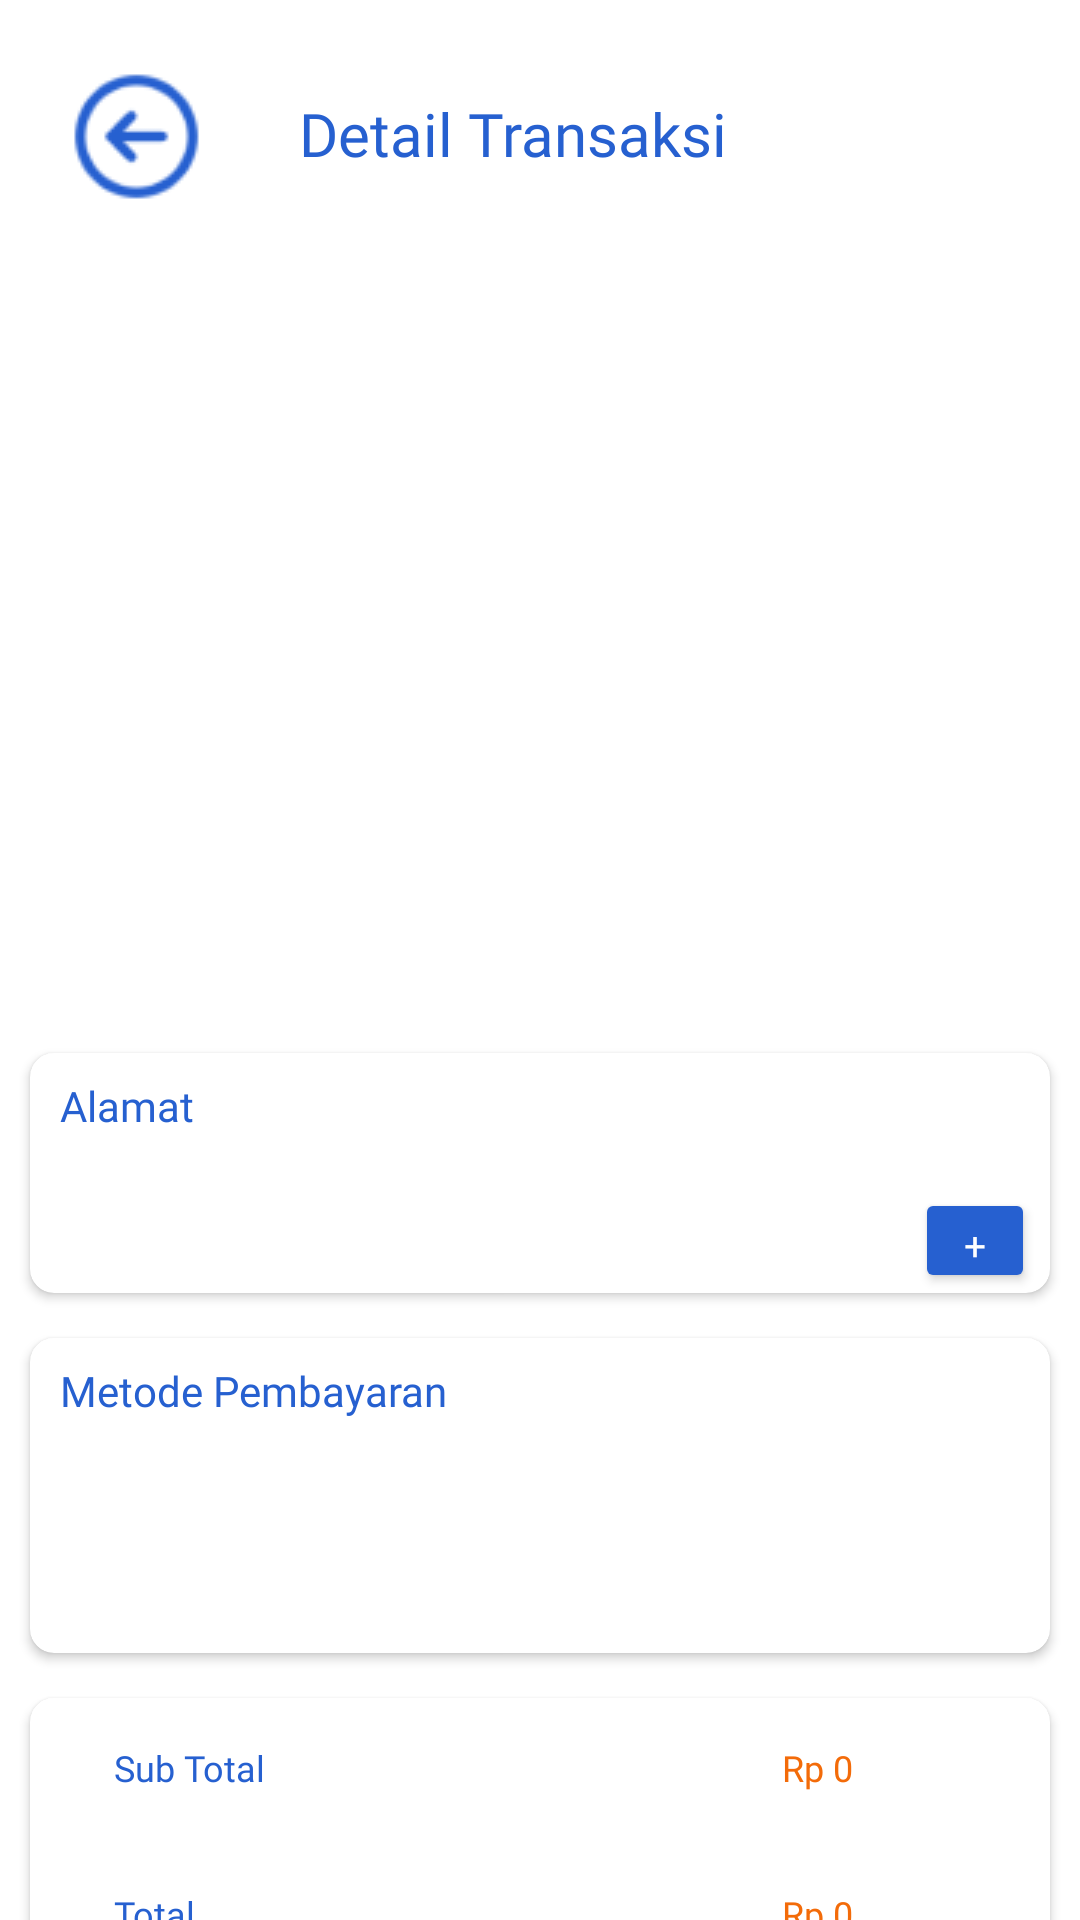

Screen size 1080 × 1920. Icon name, then its box in pixels as BBox(x1, y1, x2, y2):
backbtnbiru: BBox(74, 74, 199, 199)
